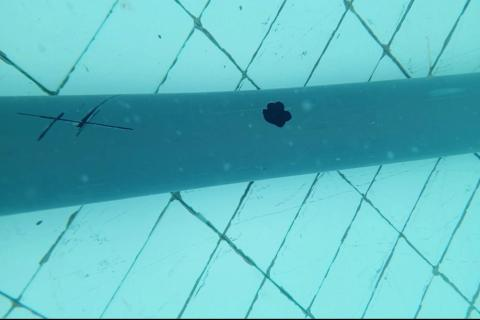kebocoran: (261, 99, 292, 130)
keretakan: (17, 100, 136, 141)
